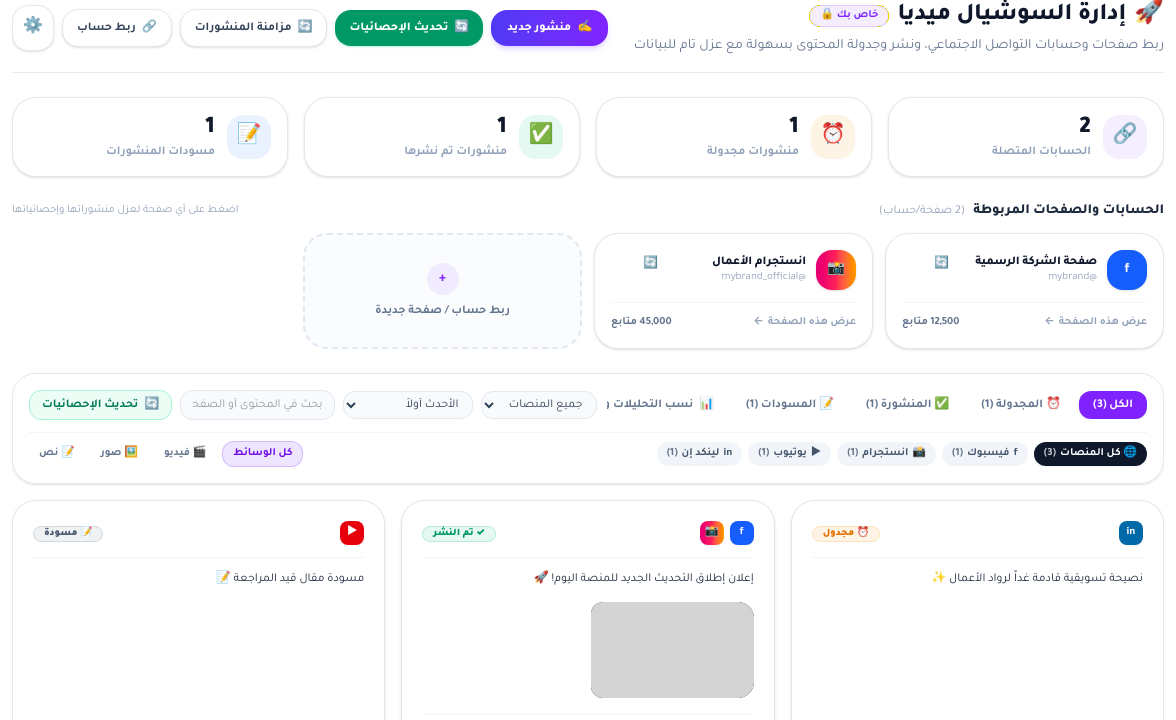
Test: SocialMediaBoard.vue and Social Media Management Features › switches to analytics tab, displays summary KPIs and per-page metrics breakdown
Click the button "📊 نسب التحليلات والصفحات (2)".
click(626, 404)  # box left=524, top=390, right=728, bottom=418
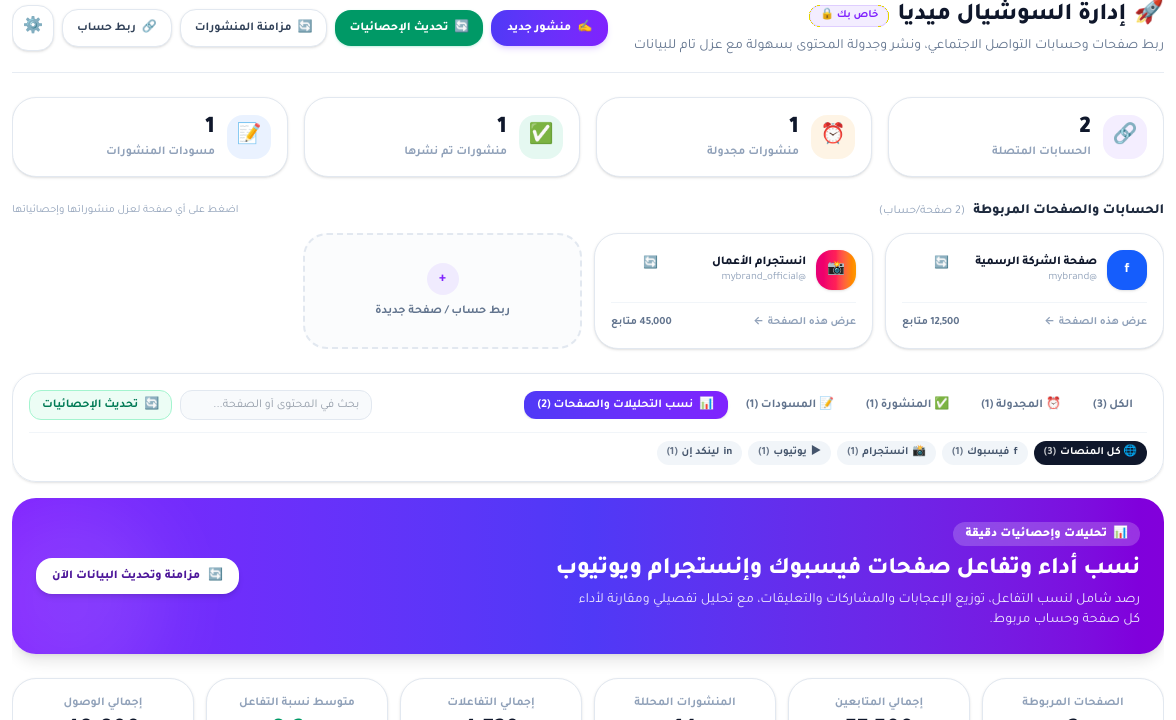
expect the text "نسب أداء وتفاعل صفحات فيسبوك وإنستجرام" is shown: met, box left=556, top=558, right=1140, bottom=582
